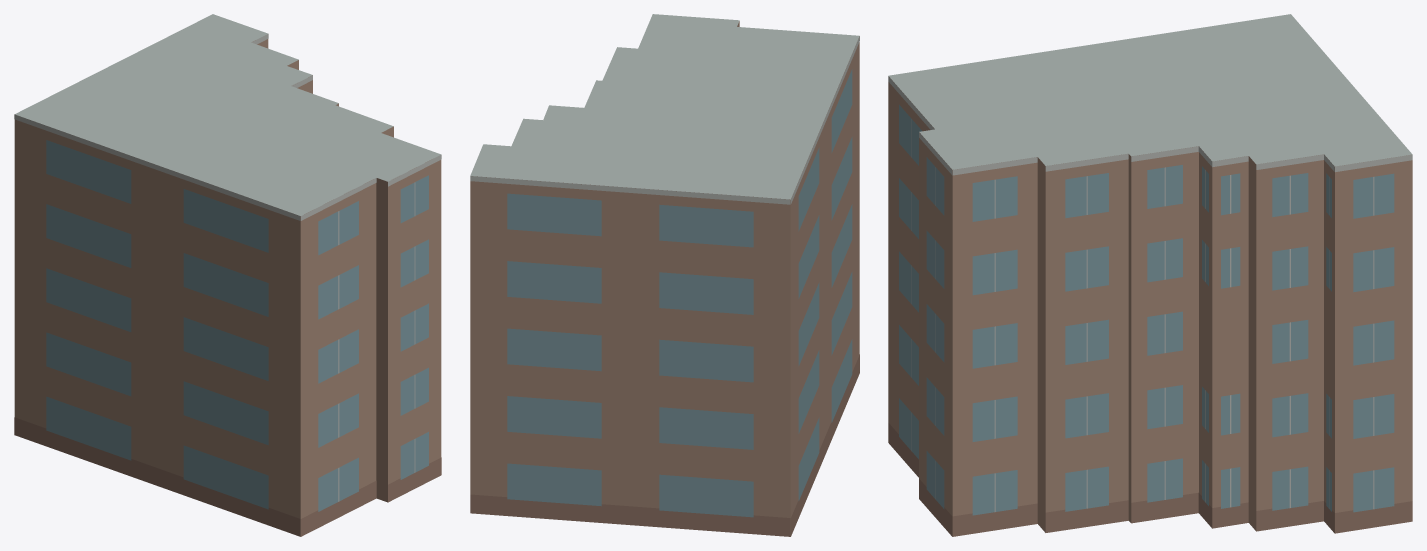
Rendered from survey-upis-32961174.glb.
3 views of the same model, side by side, from view 1: azimuth 30°, elevation 25°; view 2: azimuth 150°, elevation 25°; view 3: azimuth 270°, elevation 25° (orthographic). The views are drawn at different scales.
Visible parts, largest first — view 1: survey-upis-32961174.tmp; view 2: survey-upis-32961174.tmp; view 3: survey-upis-32961174.tmp.
Boxes of the visible parts, box(x1,y1,x2,y2) form: survey-upis-32961174.tmp: box(14, 14, 441, 536); survey-upis-32961174.tmp: box(470, 14, 859, 536); survey-upis-32961174.tmp: box(888, 14, 1412, 536).
Size of the model in its own units: 14.31 by 15.7 by 20.34.
